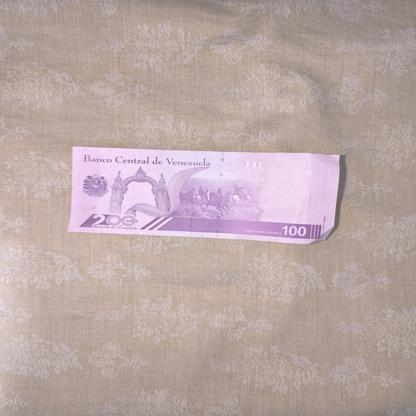one_hundred-back-vef: (67, 145, 340, 245)
